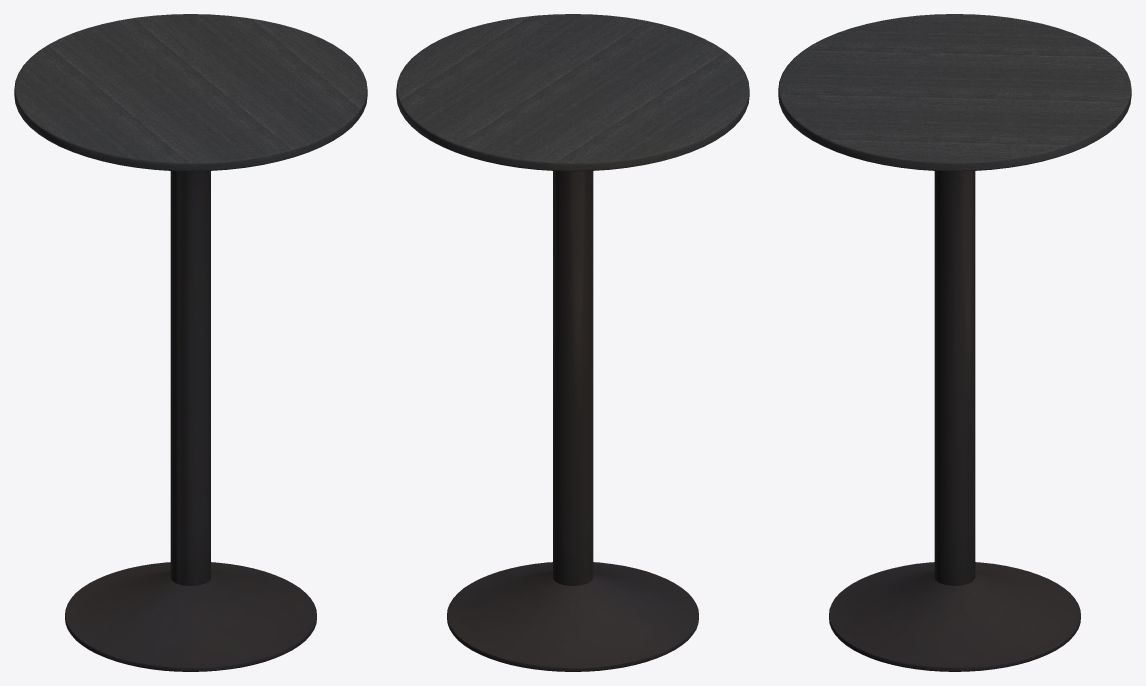
File: redo_110_schwarz_schwarz_60_black_laquered_metal.glb
3 views of the same model, side by side, from view 1: azimuth 30°, elevation 25°; view 2: azimuth 150°, elevation 25°; view 3: azimuth 270°, elevation 25° (orthographic).
Visible parts, largest first — view 1: fermo_110_schwarz_o70-black; view 2: fermo_110_schwarz_o70-black; view 3: fermo_110_schwarz_o70-black.
Boxes of the visible parts, bbox=[...] form: fermo_110_schwarz_o70-black: bbox=[14, 14, 367, 671]; fermo_110_schwarz_o70-black: bbox=[396, 14, 749, 671]; fermo_110_schwarz_o70-black: bbox=[778, 14, 1131, 671].
Bounding box in the file's own units: 0.7003 × 1.16 × 0.7003.
1 material, 1 textured.
